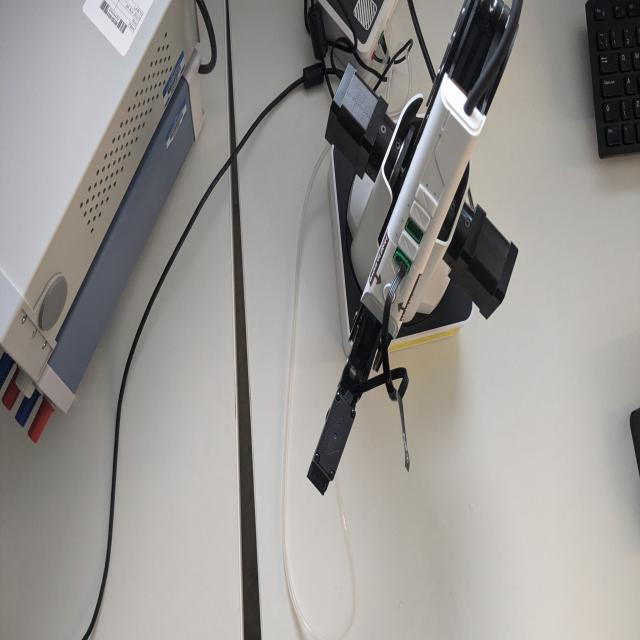Robot-end-effector-HF8z: (304, 383, 362, 498)
